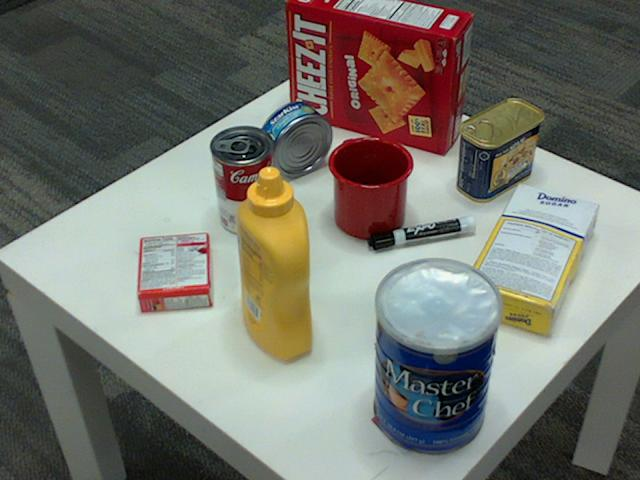cracker_box: (287, 0, 472, 154)
gelatin_box: (133, 230, 208, 311)
large_marker: (368, 219, 476, 249)
master_chef_can: (374, 260, 504, 457)
mug: (326, 135, 412, 238)
mustard_bottle: (235, 167, 311, 360)
potted_meat_can: (456, 100, 542, 203)
sugar_box: (460, 183, 597, 338)
tomato_soup_can: (209, 126, 276, 236)
tuna_fish_can: (256, 101, 331, 177)
